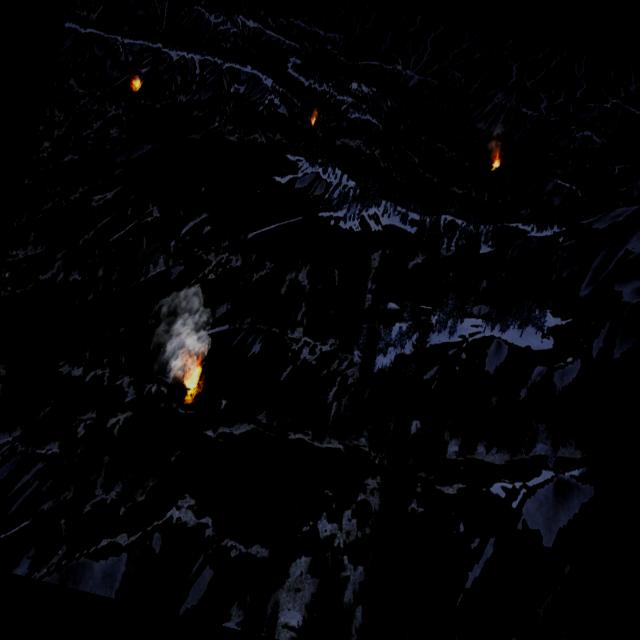fire: (176, 354, 206, 406), (307, 105, 319, 126), (128, 76, 142, 92), (491, 153, 503, 170)
smoke: (140, 274, 226, 390), (484, 134, 505, 159)
